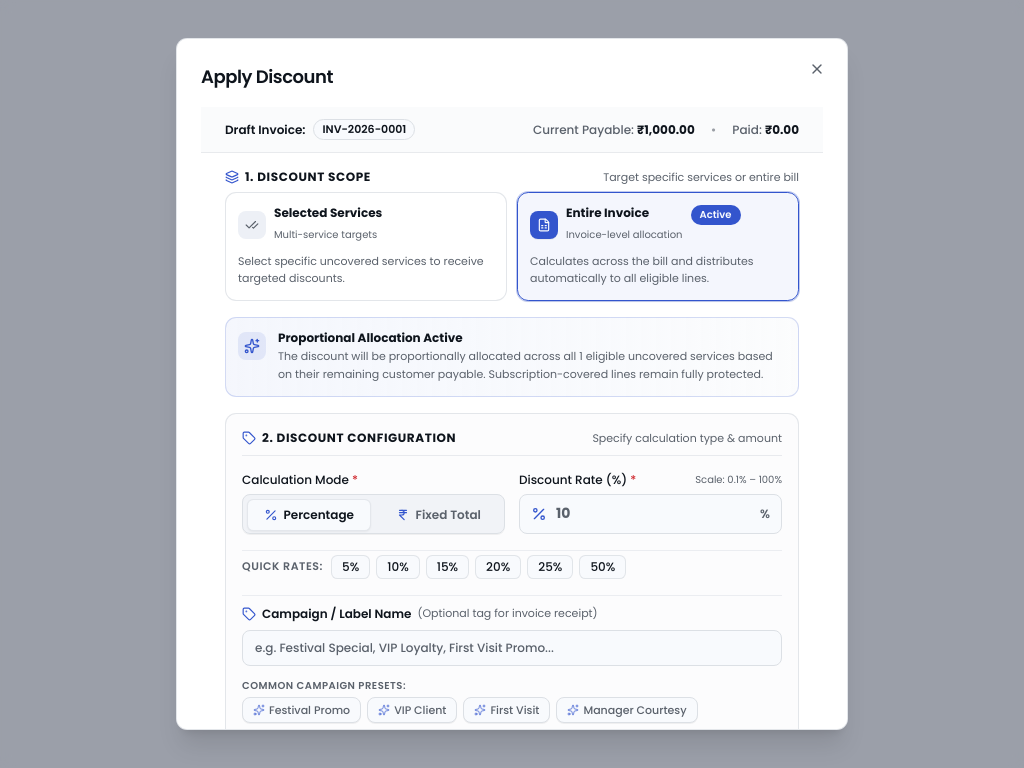
Test: Billing Discounts — UI Components & Flow Verification › ApplyDiscountDialog › requires mandatory reason of minimum 3 characters before submitting
In the number field with placeholder "10": (650, 514) [519,494,782,534], type "15"
(page scrolled)
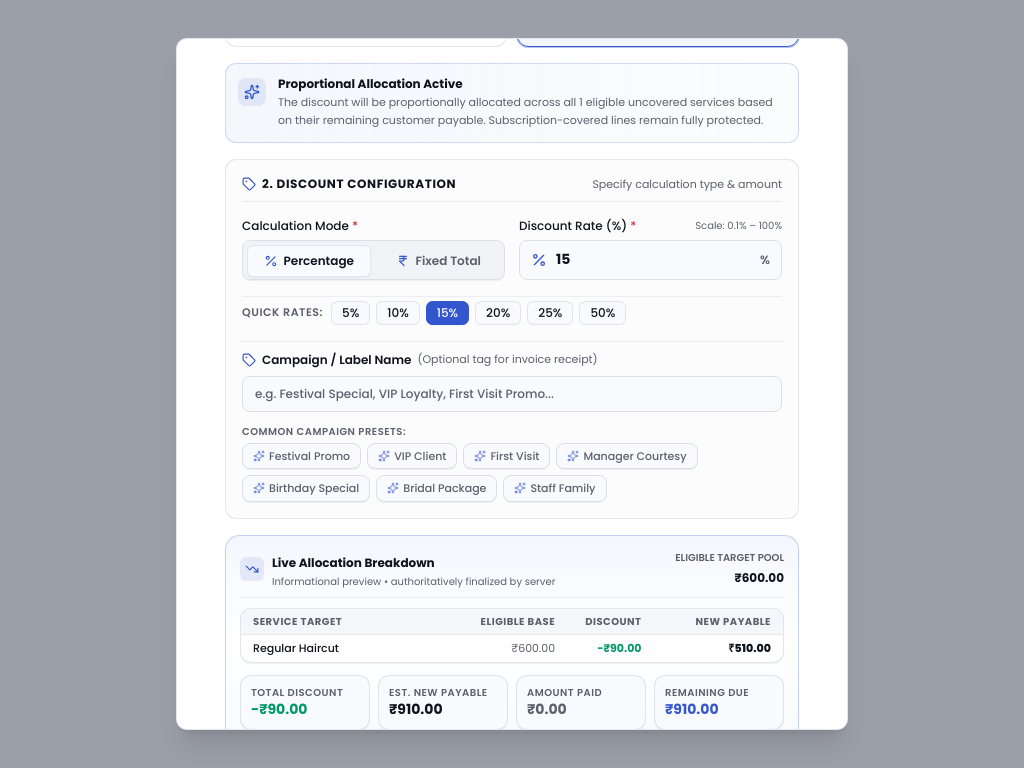
Submit the form
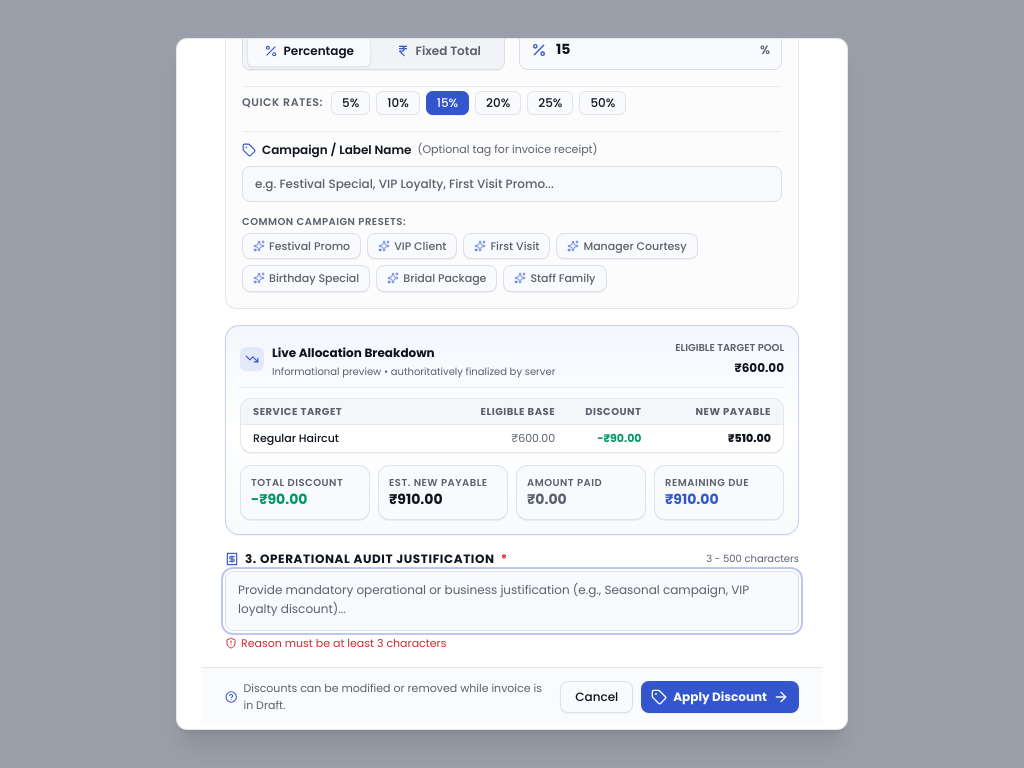
Now the text "Reason must be at least 3 characters" is shown, box [241,635,446,651]
